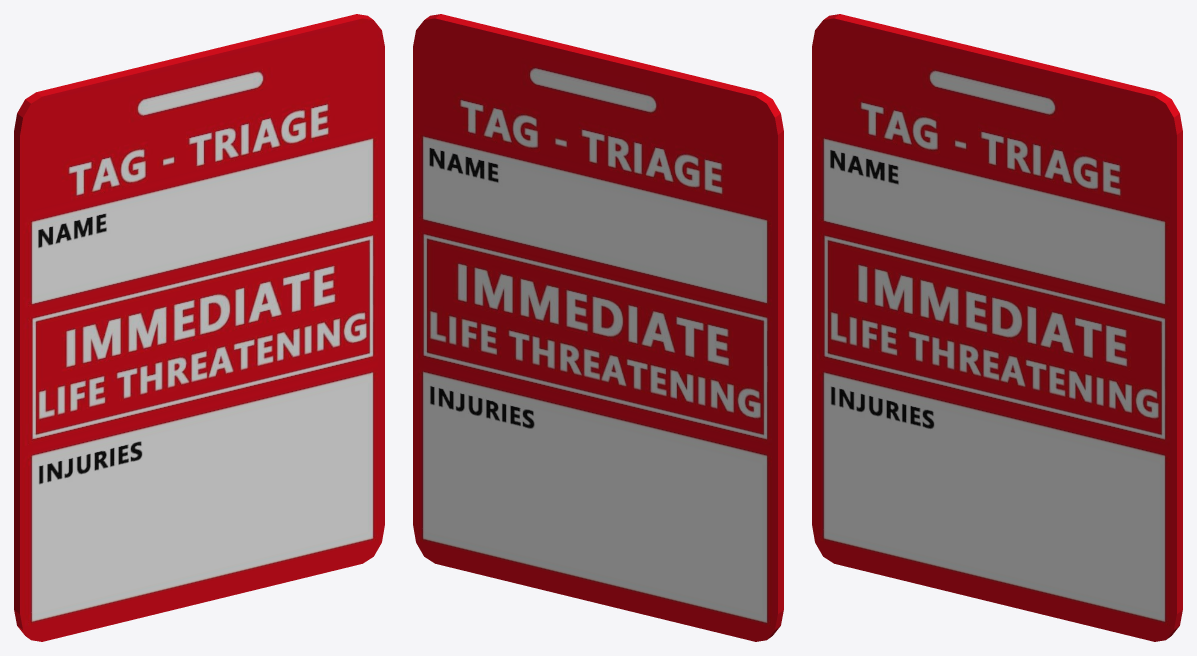
File: Red.fbx
3 renders of one model, left to right at view 1: azimuth 30°, elevation 25°; view 2: azimuth 150°, elevation 25°; view 3: azimuth 330°, elevation 25°, orthographic.
Parts seen in each view (by area): view 1: Red; view 2: Red; view 3: Red.
Boxes of the visible parts, box(x1,y1,x2,y2) form: Red: box(14, 14, 384, 641); Red: box(413, 14, 783, 641); Red: box(812, 14, 1182, 641).
Bounding box in the file's own units: 7.9 × 11.29 × 0.2258.
Materials: 1 (1 with a texture image).
